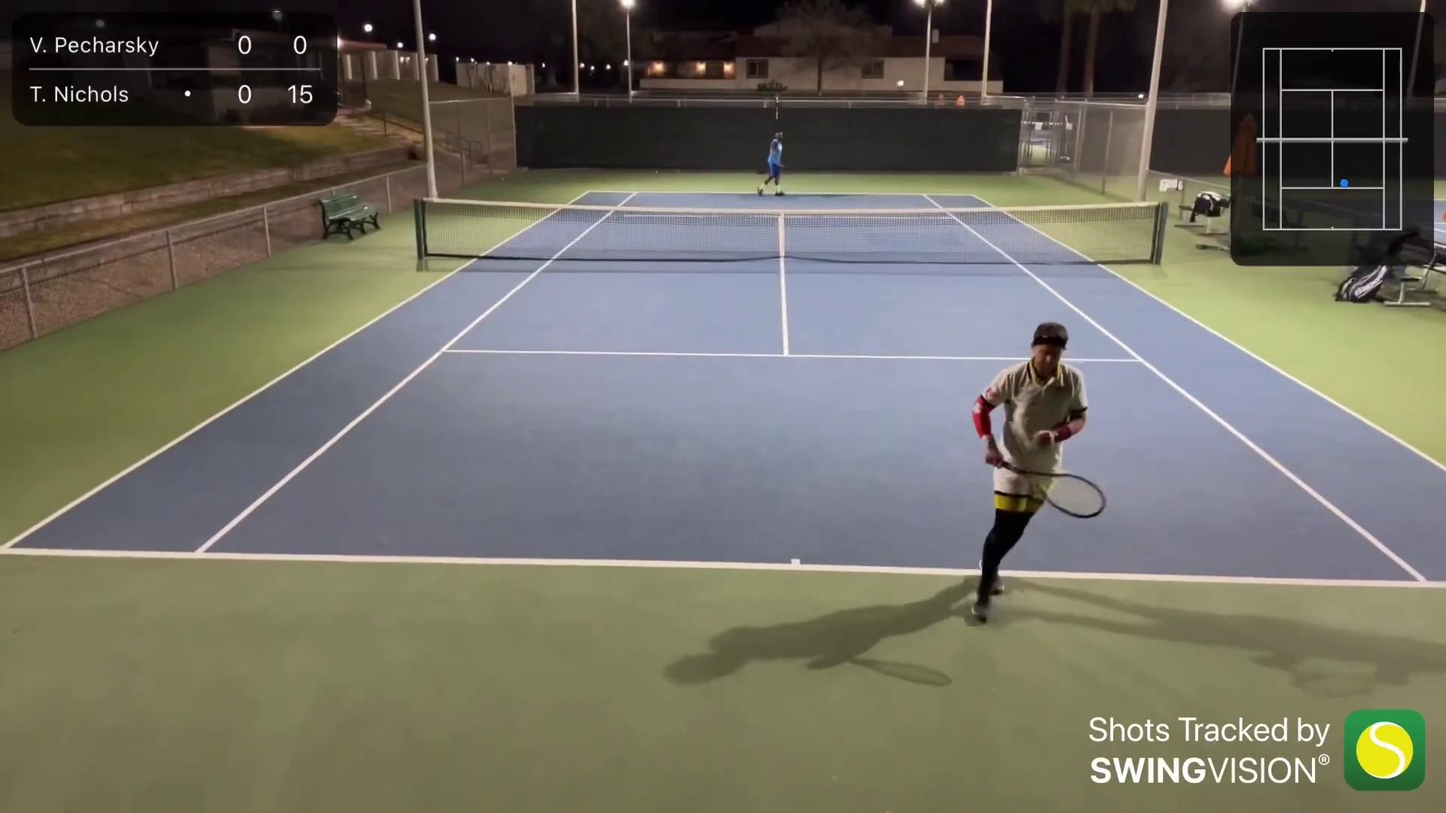ball: (498, 177, 508, 183), (653, 169, 660, 175)
